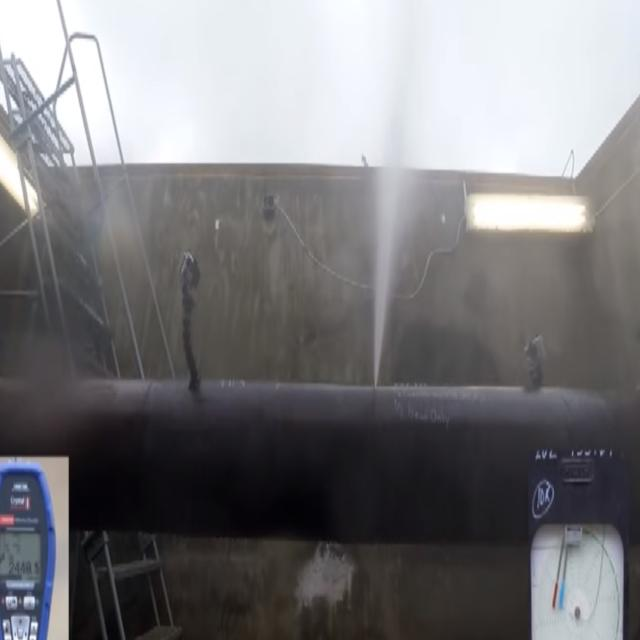leak: (374, 168, 400, 386)
